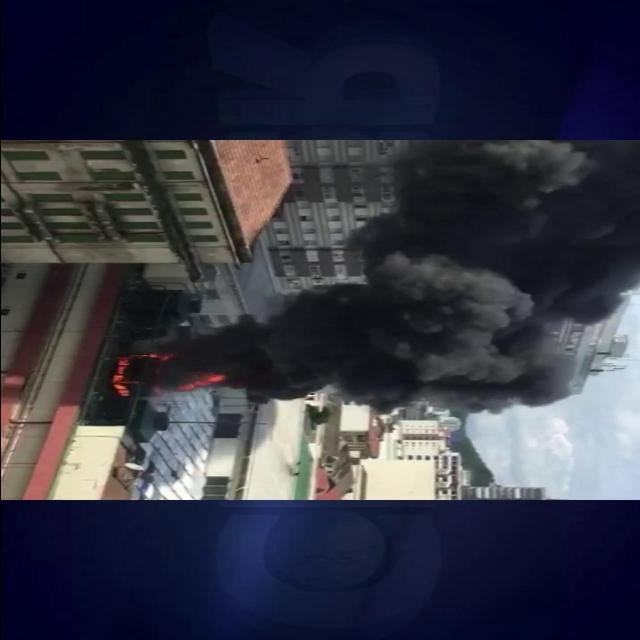Fire: (179, 374, 231, 398), (112, 356, 138, 396), (140, 352, 170, 362)
